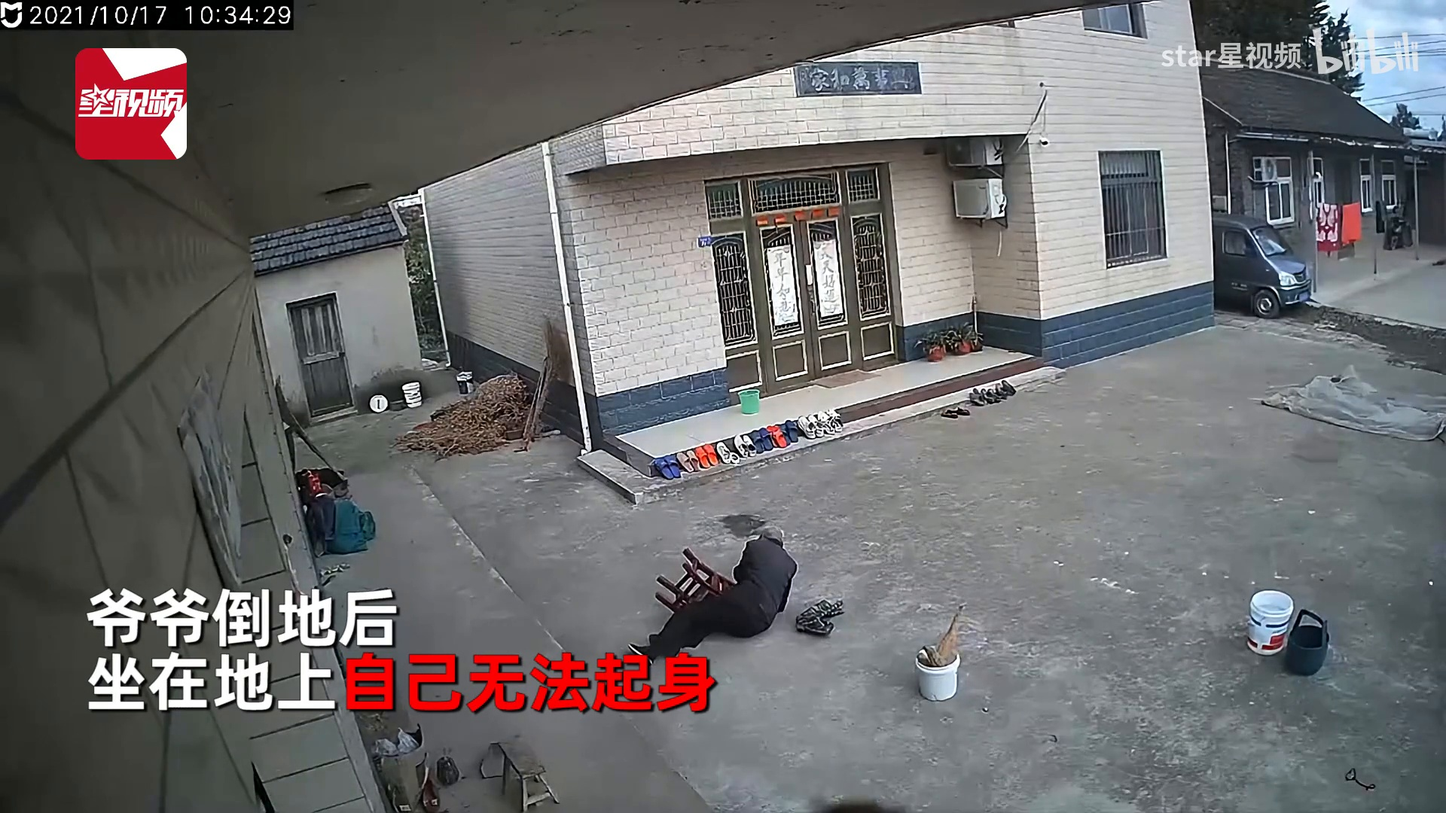half_up: (627, 529, 798, 660)
